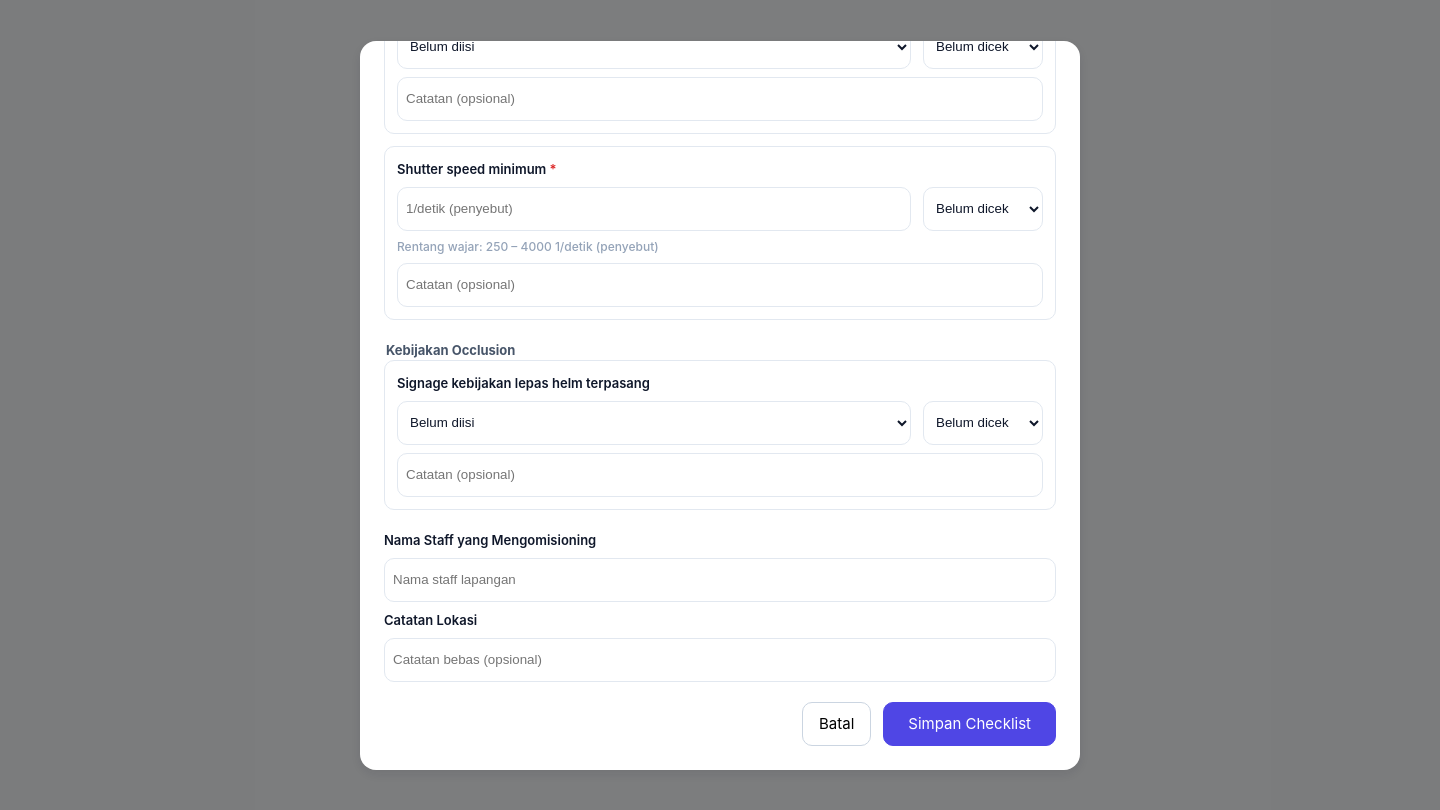
Test: CommissioningChecklistDialog › shows an error message when the save fails
(page scrolled)
Step 1. Click the button "Simpan Checklist" → (970, 724), box [883, 702, 1056, 746]
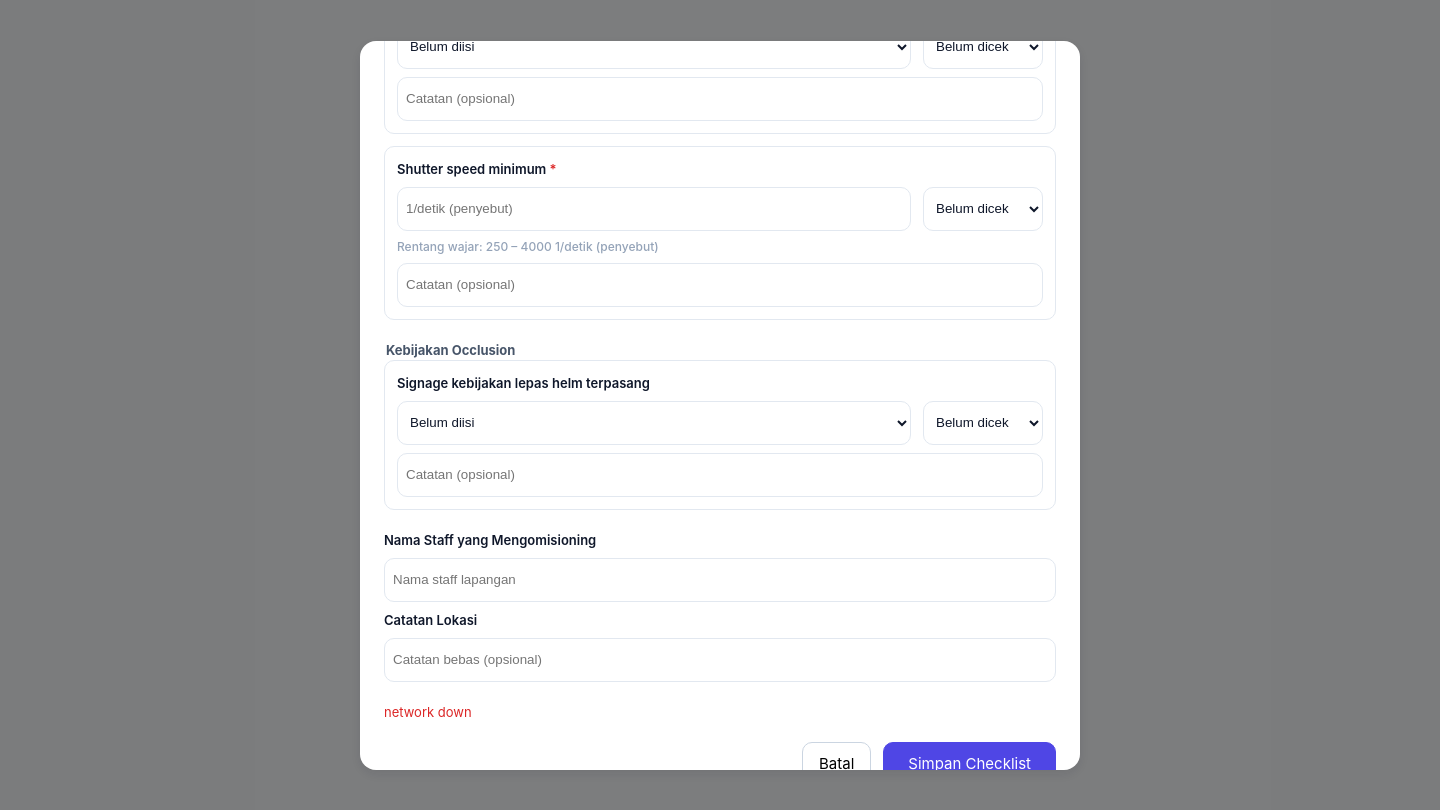
Now the text "network down" is shown, box [384, 704, 472, 720]
